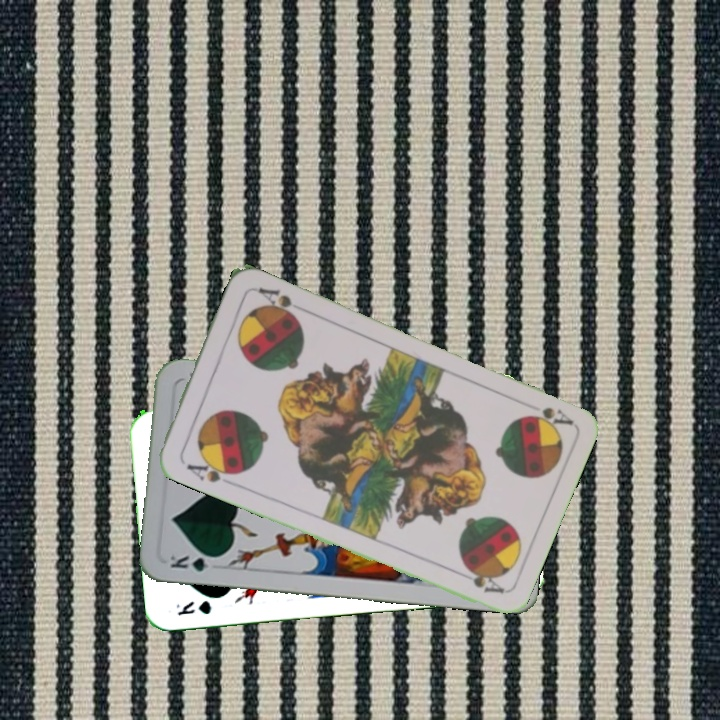GK: (166, 549, 223, 575), (171, 596, 214, 618)
SA: (182, 454, 239, 488), (522, 403, 575, 430)
